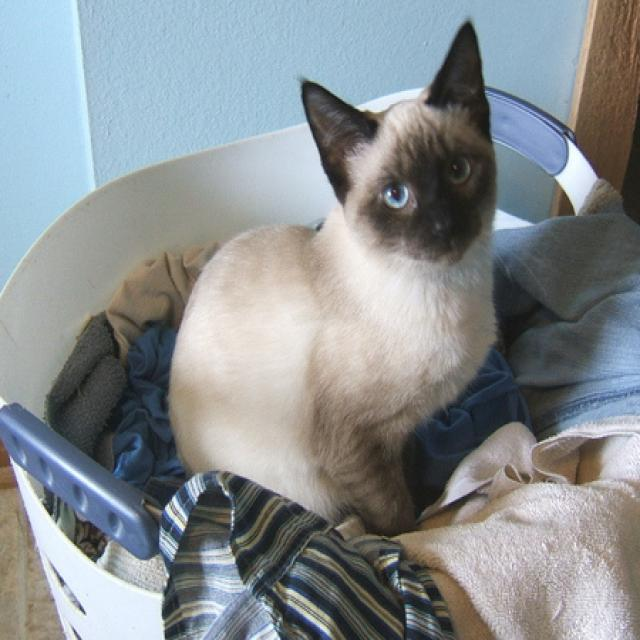Siamese: (165, 18, 505, 542)
